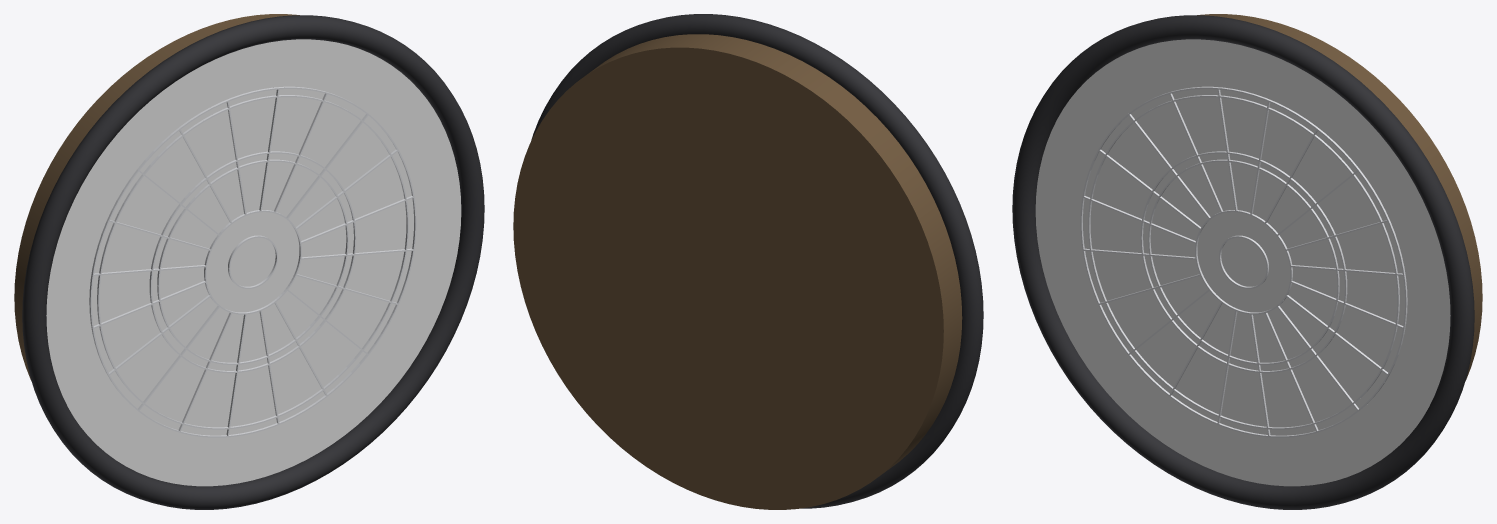
The model's file is Dartboard.fbx.
The picture shows the model from 3 angles, left to right: view 1: azimuth 30°, elevation 25°; view 2: azimuth 150°, elevation 25°; view 3: azimuth 330°, elevation 25°; orthographic projection.
Parts seen in each view (by area): view 1: Board; view 2: Board; view 3: Board.
Boxes of the visible parts, box(x1,y1,x2,y2) form: Board: box(14, 14, 484, 509); Board: box(513, 14, 983, 509); Board: box(1012, 14, 1482, 509).
Size of the model in its own units: 0.7696 by 0.7696 by 0.0864.
